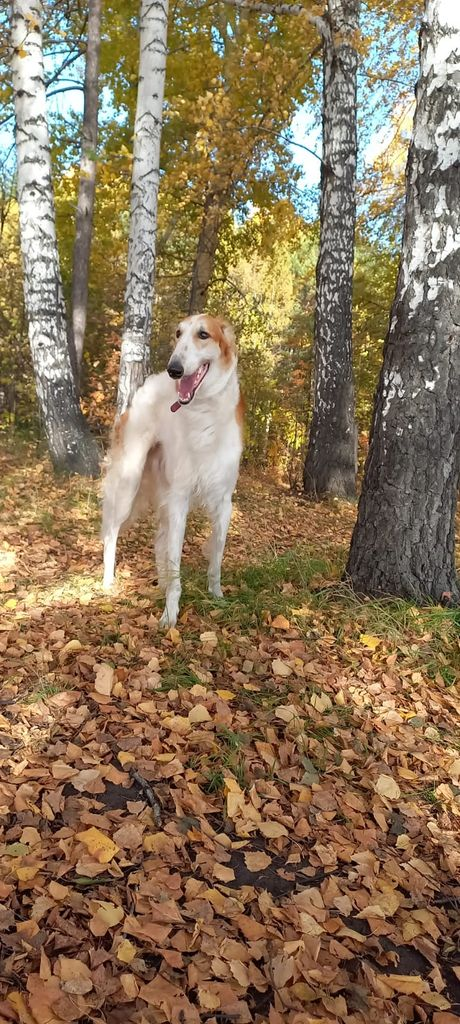borzoi: (88, 297, 269, 626)
